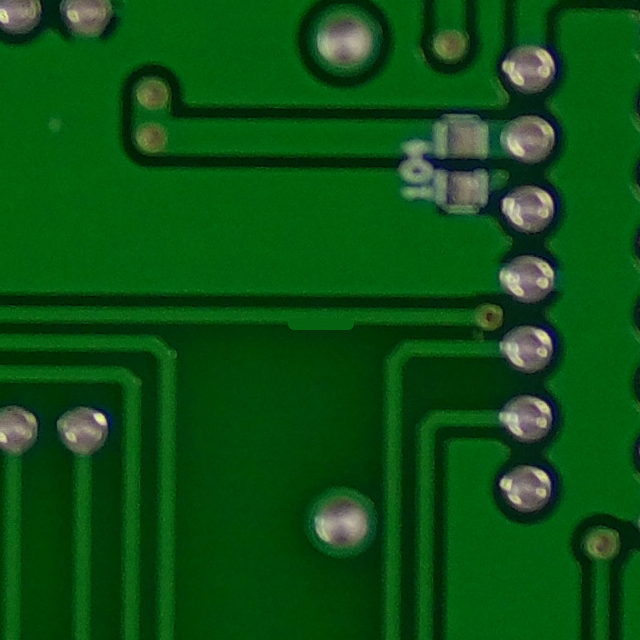spur: (271, 296, 369, 345)
